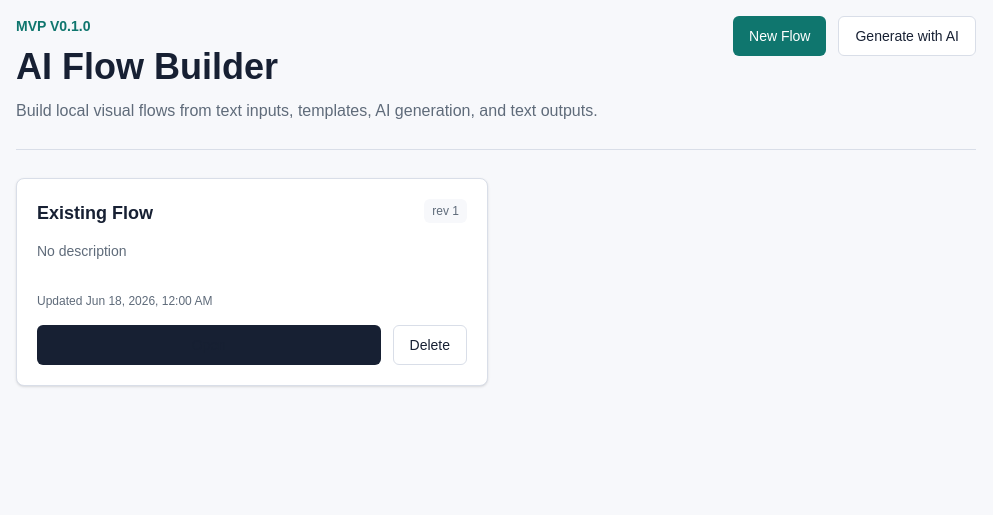
FlowListClient › opens existing flows with links and deletes them through the API
Click the button "Delete" at (430, 345), box [392,325,467,365]
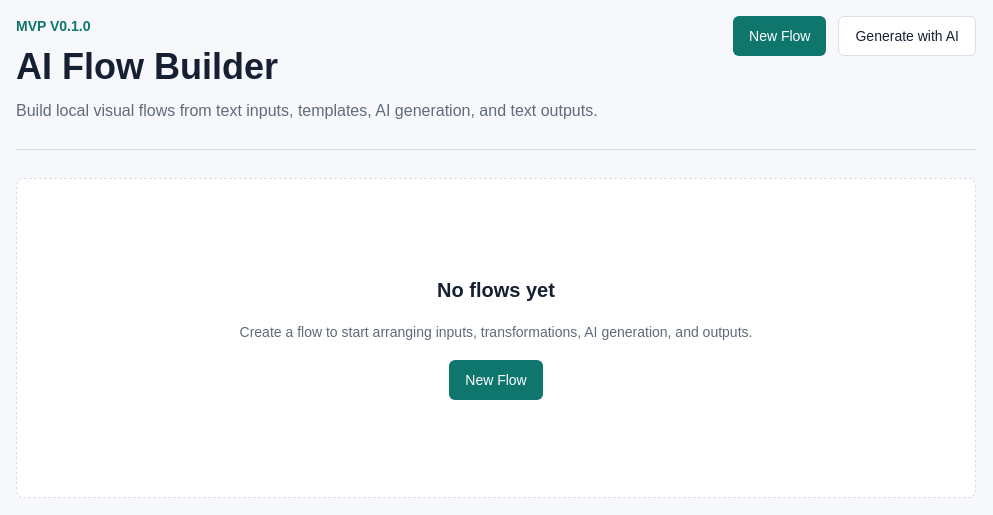
expect the heading "Existing Flow" is gone: met
